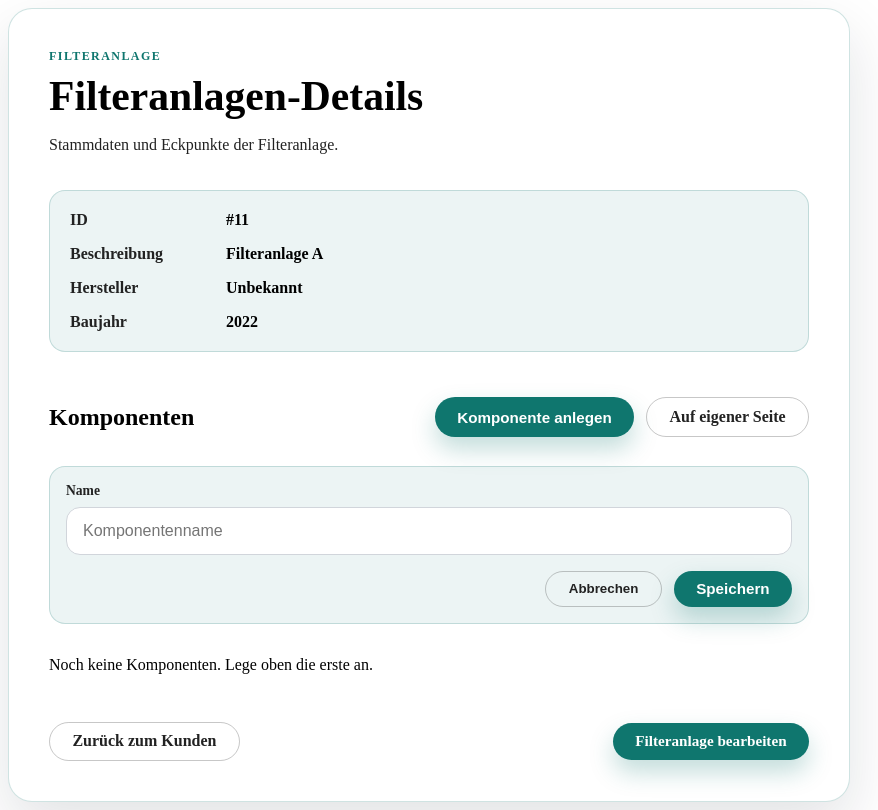
Test: FilterPlantDetailPage › should toggle component form via cancel button
Expected: the form with class "components__form" is shown, top-left (49, 466), bottom-right (809, 624)
Click the button with class "ghost-link-button" showing "Abbrechen": point(604, 589) top-left (545, 571), bottom-right (662, 607)
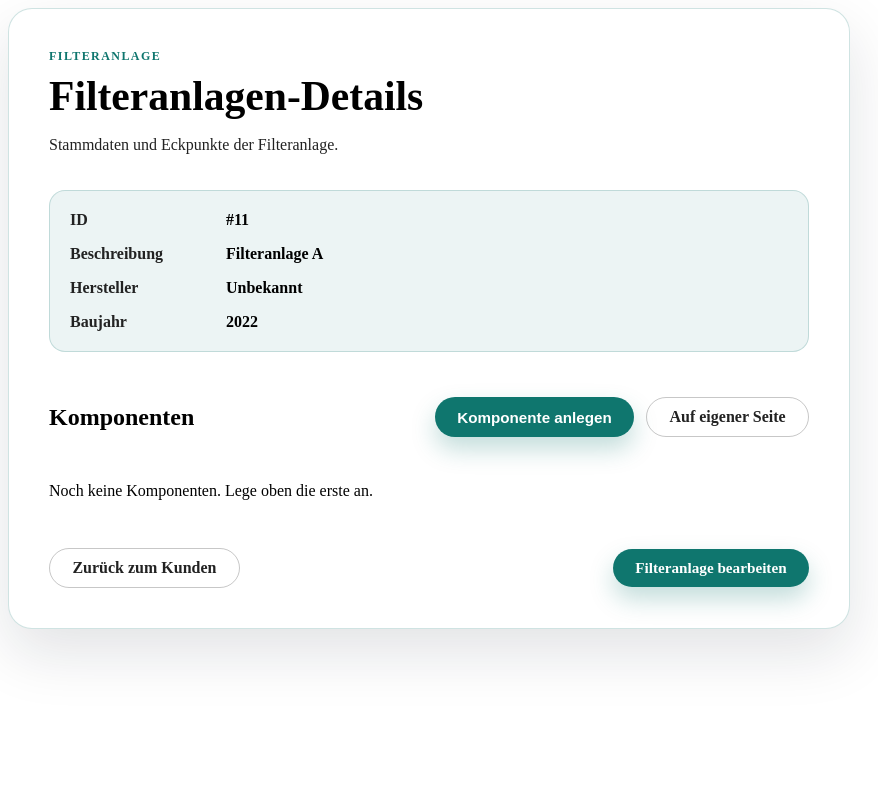
Now the form with class "components__form" is gone
